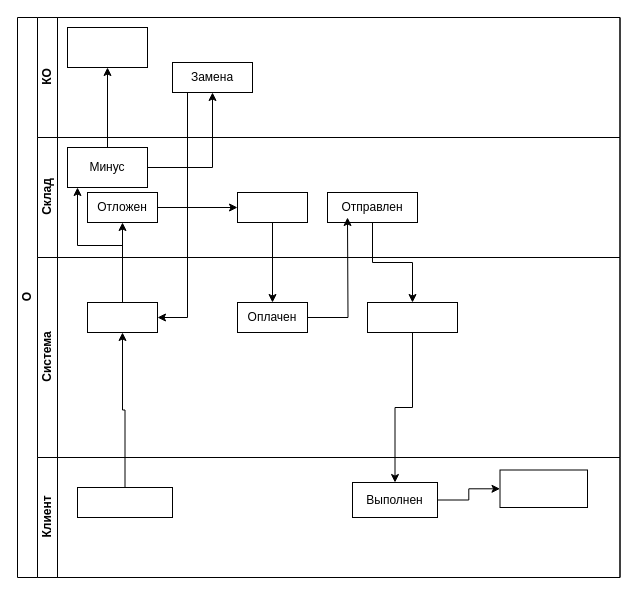
Some shapes in this 638 by 595 pixel diagram are drawn without their labels. Each missing label, with the box of its shape:
Возврат: (499, 469, 588, 508)
Доставлен: (366, 302, 458, 332)
Отмена: (66, 26, 148, 68)
Оформление: (76, 486, 172, 518)
Принят: (86, 302, 158, 332)
Собран: (236, 192, 308, 222)
